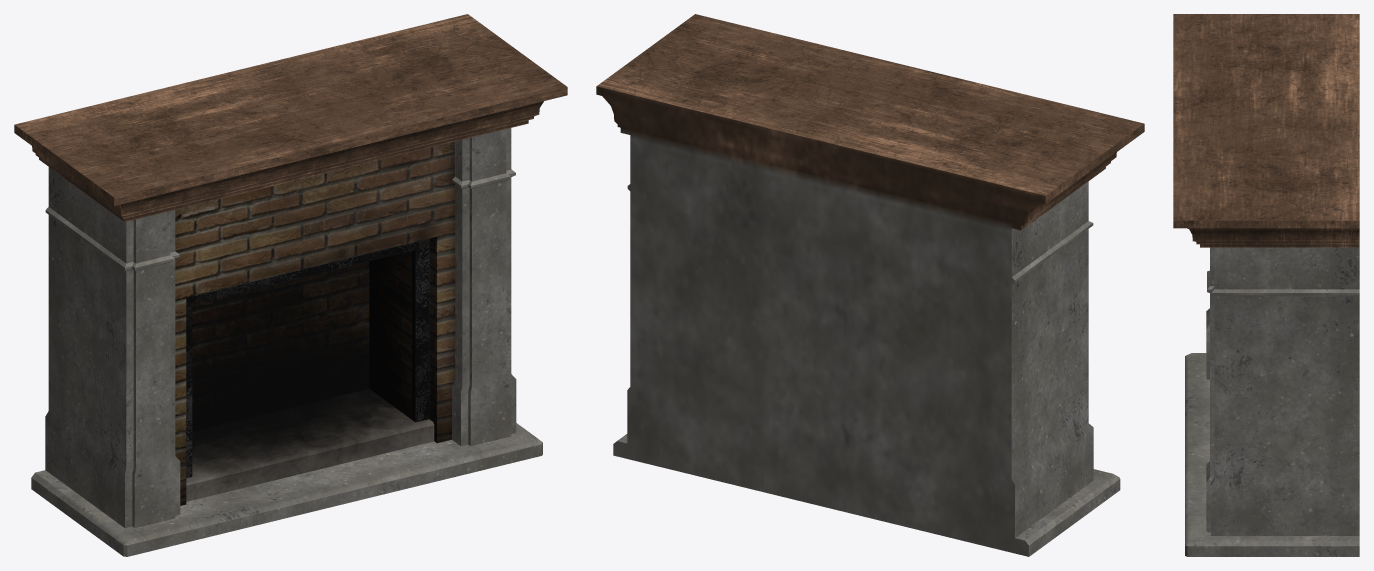
File: fireplace_low-poly.glb
3 views of the same model, side by side, from view 1: azimuth 30°, elevation 25°; view 2: azimuth 150°, elevation 25°; view 3: azimuth 270°, elevation 25° (orthographic). The views are drawn at different scales.
Parts seen in each view (by area): view 1: fireplace; view 2: fireplace; view 3: fireplace.
Part boxes in pixels (x1,y1,x2,y2): fireplace: (14,14,567,556); fireplace: (596,14,1144,556); fireplace: (1173,14,1359,556).
Bounding box in the file's own units: 0.6712 × 0.5213 × 0.2557.
Materials: 1 (1 with a texture image).
